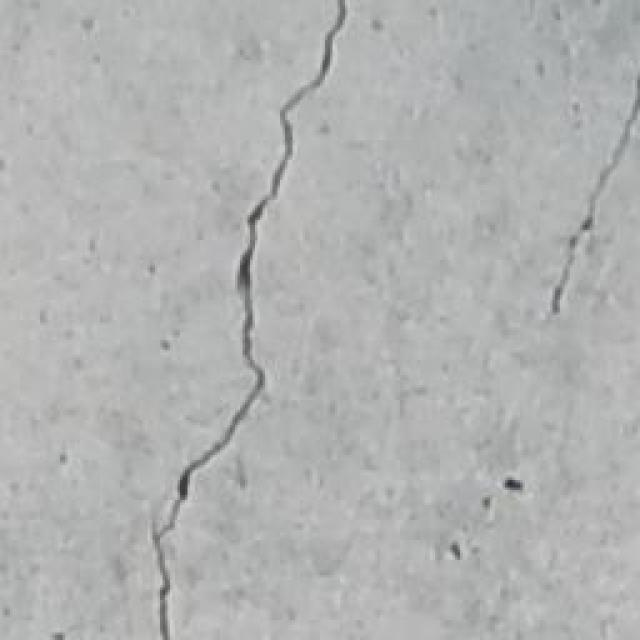concrete-crack: (152, 0, 348, 640)
